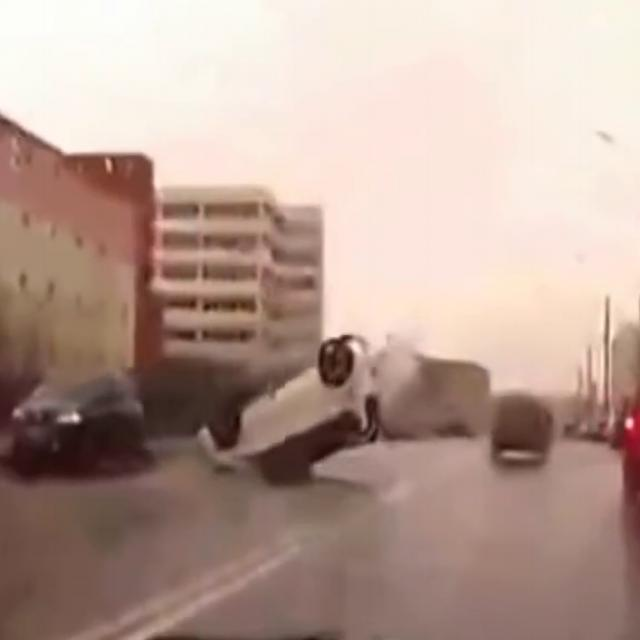accident: (178, 322, 411, 502)
